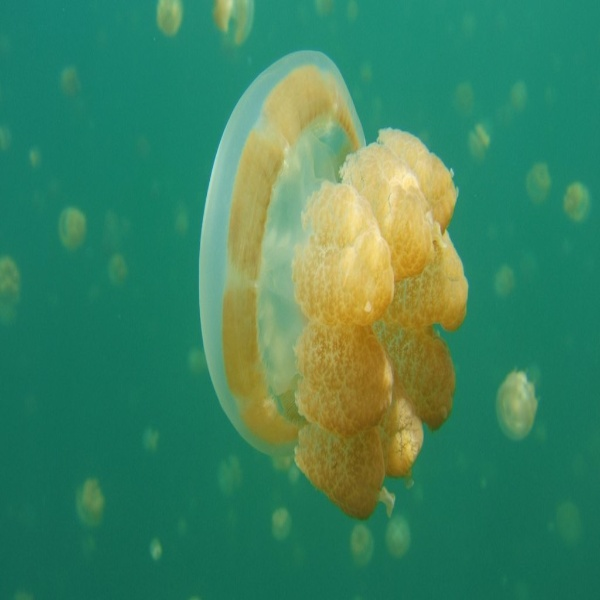Jellyfish: (197, 45, 471, 522), (495, 359, 539, 441), (213, 0, 259, 38)
